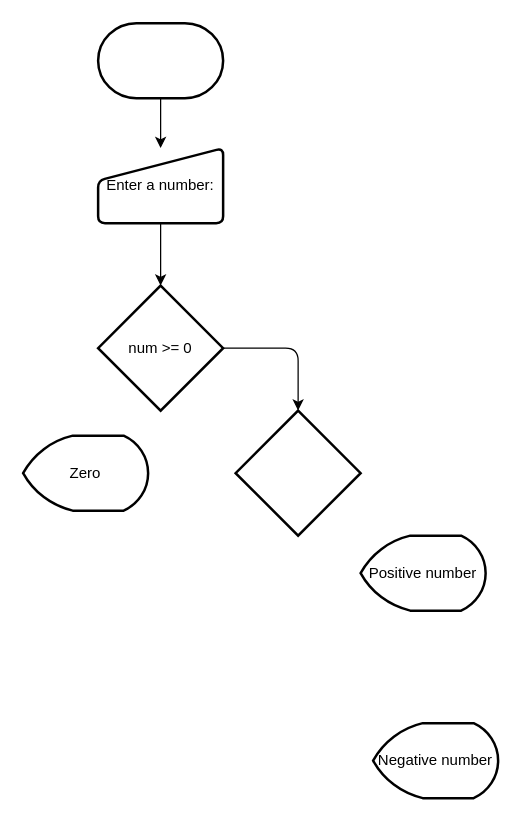
This 520x820 diagram has some shape labels left out. Each missing label, with the centre of its shape:
"num == 0" belongs at (x=297, y=472).
"Start" belongs at (x=160, y=60).
